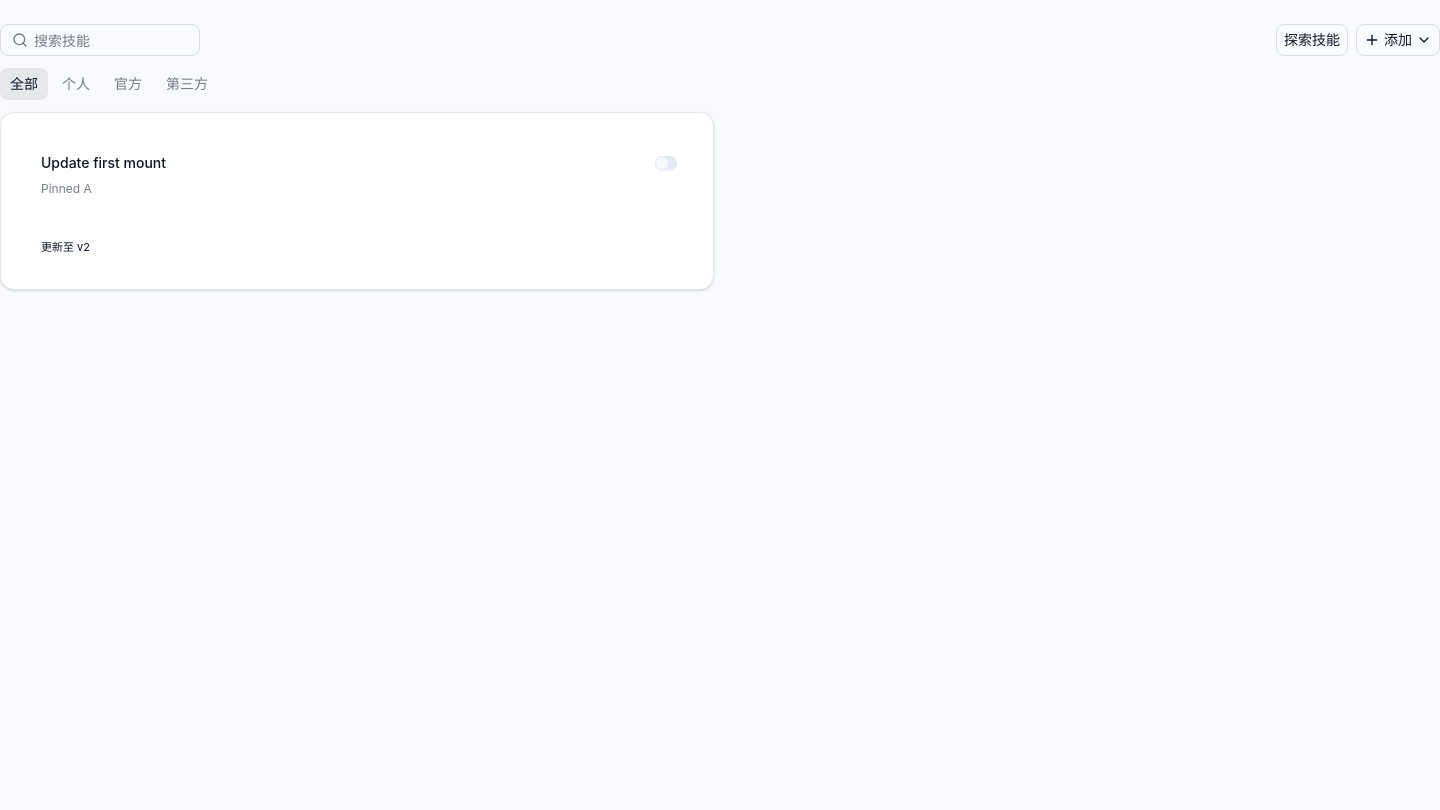
Test: confirms an update from the first admitted mount and restores keyboard focus when the old update button disappears
The width and height of the screenshot is (1440, 810).
Click the button with aria-label "更新至 v2 Update first mount". click: (66, 247)
box: [25,229,106,265]
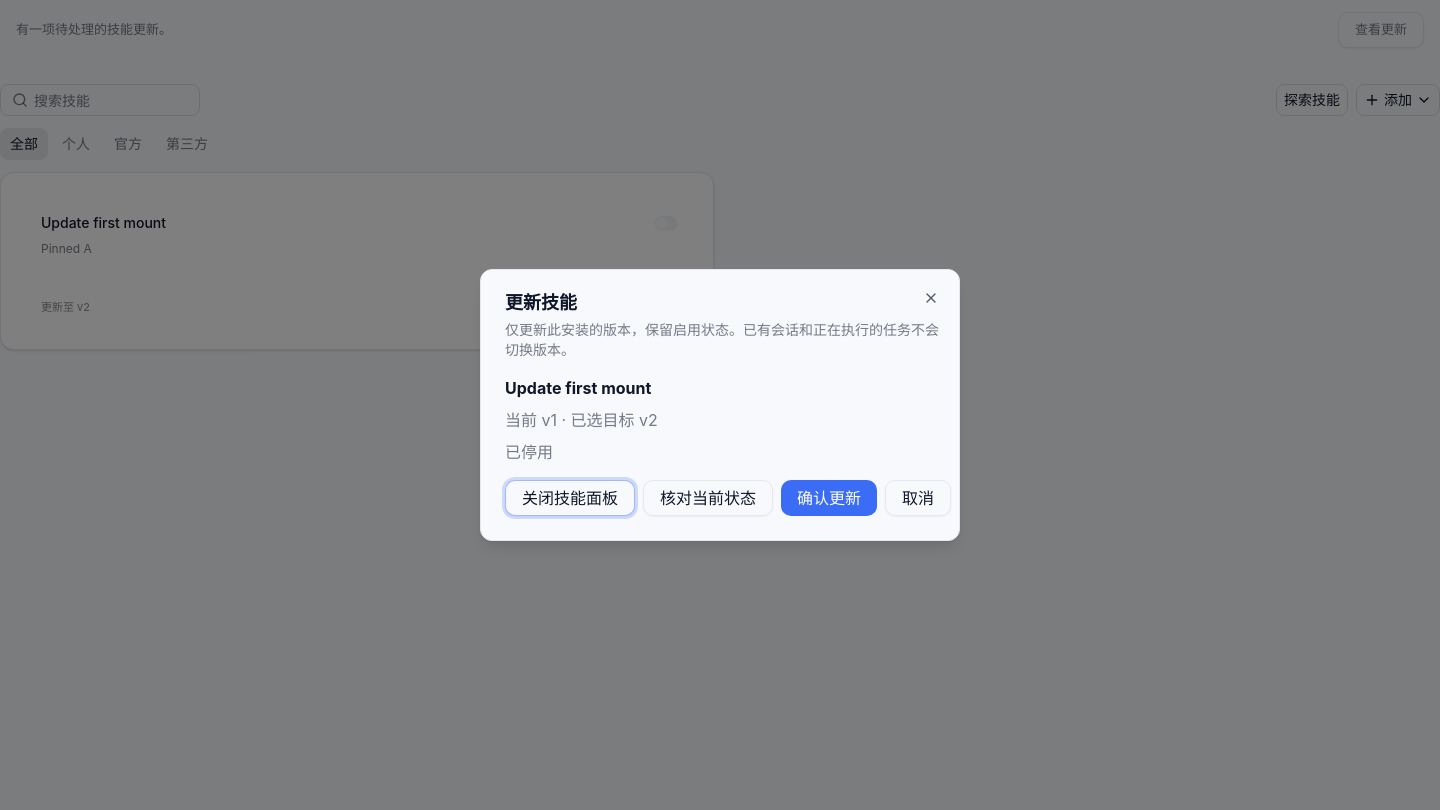
Check: the text "Update first mount" is shown, box [505,378,651,398]
Check: the button "确认更新" is enabled
Click the button "确认更新". click: (829, 498)
box: [781,480,877,516]
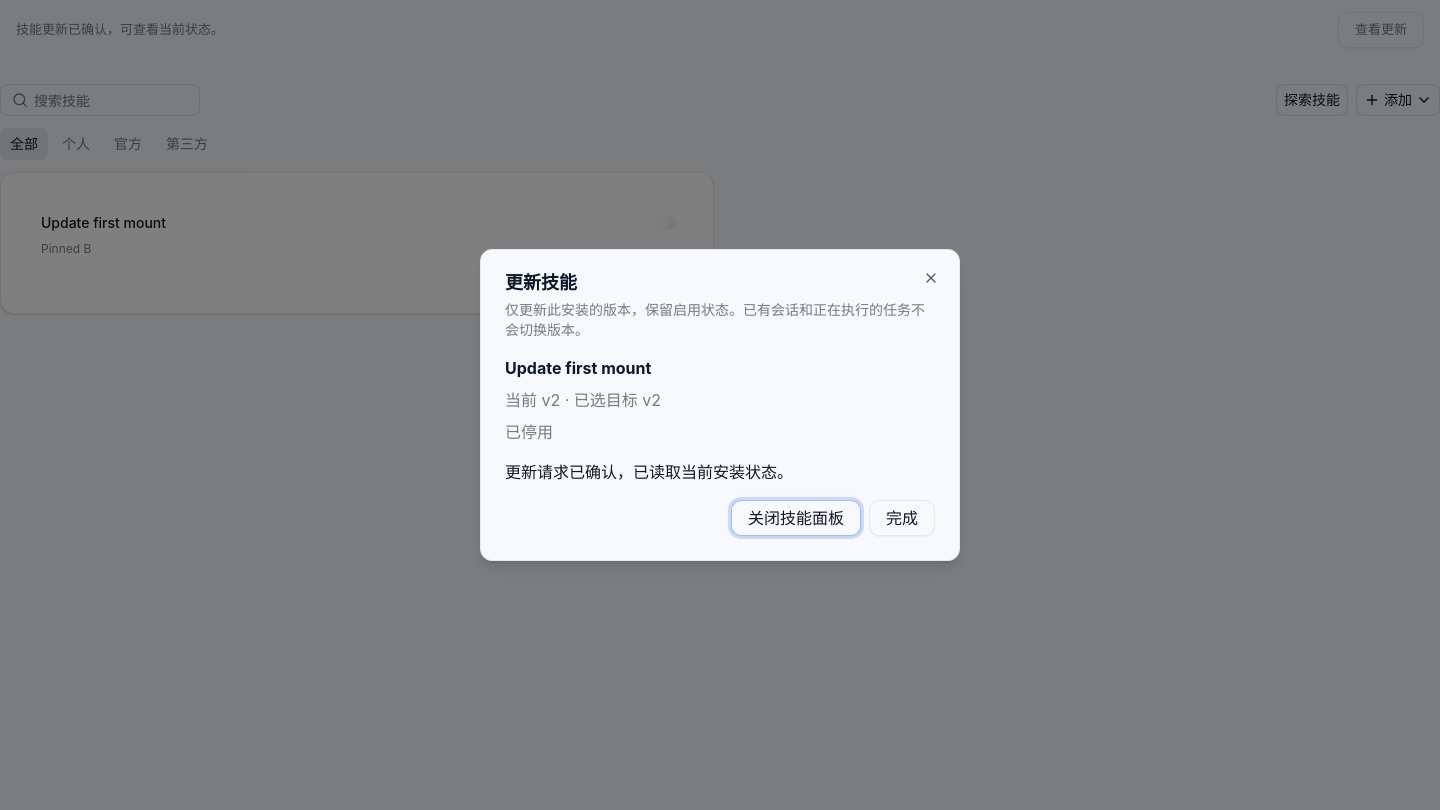
Check: the text "更新请求已确认，已读取当前安装状态。" is shown, box [505,462,793,482]
Click the button "完成". click: (902, 518)
box: [869,500,935,536]
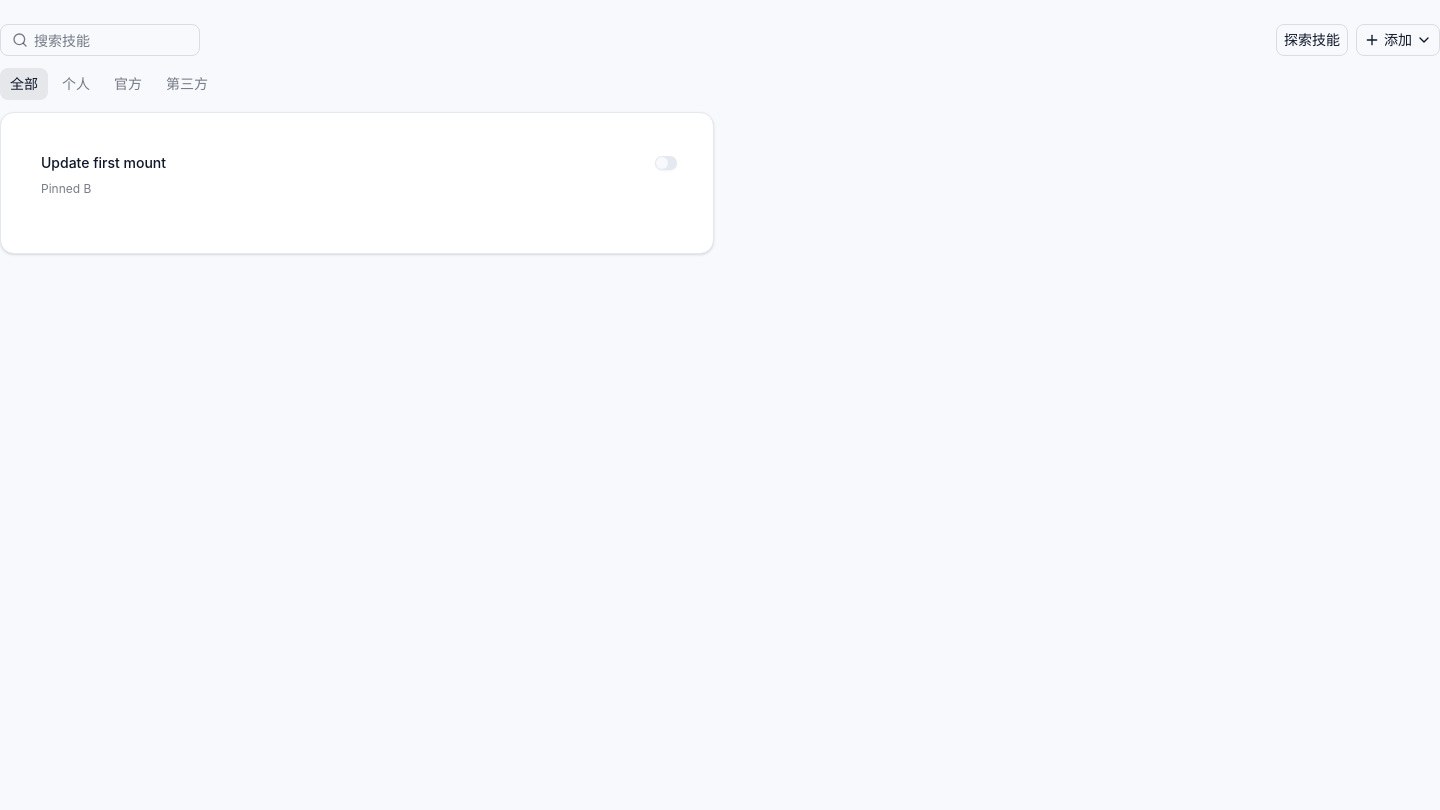
Check: the switch named "启用 Update first mount" is not checked, box [655,156,677,170]
Check: the heading "更新技能" is gone
